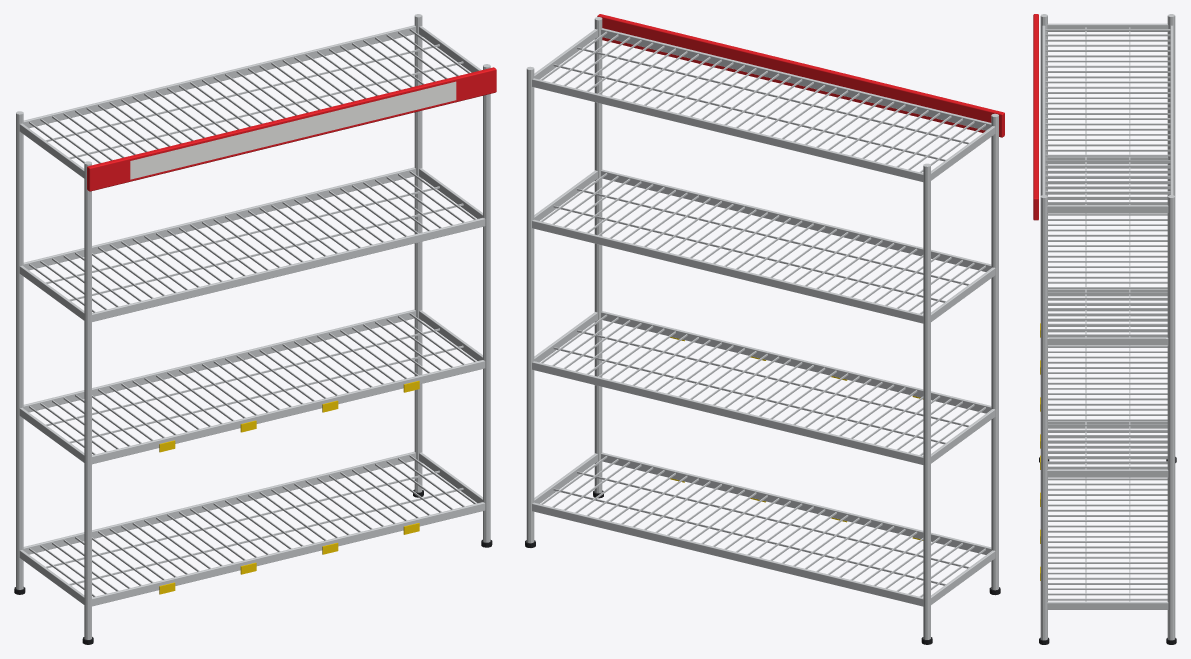
The model's file is dispatch-rack.glb.
The picture shows the model from 3 angles, left to right: view 1: azimuth 30°, elevation 25°; view 2: azimuth 150°, elevation 25°; view 3: azimuth 270°, elevation 25°; orthographic projection. The views are drawn at different scales.
Parts seen in each view (by area): view 1: BODY, LABEL, PROPS; view 2: BODY; view 3: BODY.
Boxes of the visible parts, bbox=[...] form: BODY: bbox=[14, 14, 496, 644]; LABEL: bbox=[130, 81, 456, 179]; PROPS: bbox=[159, 380, 419, 594]; BODY: bbox=[525, 14, 1004, 644]; BODY: bbox=[1033, 14, 1176, 644].
Size of the model in its own units: 1.6 by 1.8 by 0.5239.
